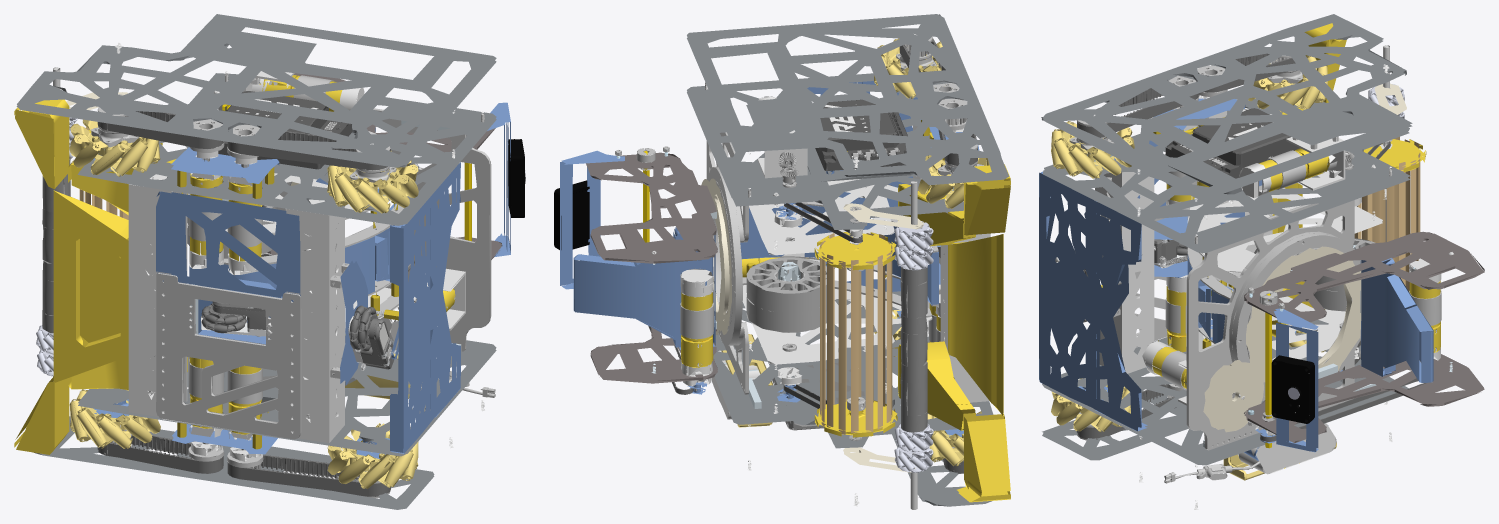
Rendered from DecodeBot.opt.glb.
The picture shows the model from 3 angles, left to right: view 1: azimuth 30°, elevation 25°; view 2: azimuth 150°, elevation 25°; view 3: azimuth 270°, elevation 25°; orthographic projection. The views are drawn at different scales.
Parts seen in each view (by area): view 1: Part 1 (×8), 1516-4008-0160, 1516-4008-0640-Mirrored, 140T 2M Belt, 3110-0001-0001-V1.1 wheel adap v2, REV-31-1153 (×2), Glass, Shaft, REV-31-1152; view 2: Part 1 (×9), 1516-4008-0160, 1516-4008-0640-Mirrored, 3613-0014-0096 Rubber, REV-31-1153 (×2), REV-31-1152, 140T 2M Belt, Glass, 1106-0008-0064, VITE_TESTA_BOMBATA_ESAGONO_INCASSATO; view 3: Part 1 (×8), 1516-4008-0160, 1516-4008-0640-Mirrored, 140T 2M Belt, REV-31-1153 (×2), Glass, 3613-0014-0096 Rubber, 3110-0001-0001-V1.1 wheel adap v2.
Part boxes in pixels (x1,y1,x2,y2): Part 1 (×8): (14, 14, 510, 509); 1516-4008-0160: (91, 72, 495, 498); 1516-4008-0640-Mirrored: (115, 42, 484, 461); 140T 2M Belt: (97, 109, 390, 496); 3110-0001-0001-V1.1 wheel adap v2: (203, 301, 394, 369); REV-31-1153 (×2): (199, 84, 471, 241); Glass: (507, 139, 525, 217); Shaft: (201, 303, 377, 351); REV-31-1152: (36, 117, 77, 376); Part 1 (×9): (560, 14, 1010, 506); 1516-4008-0160: (615, 36, 983, 471); 1516-4008-0640-Mirrored: (680, 34, 990, 506); 3613-0014-0096 Rubber: (640, 156, 862, 441); REV-31-1153 (×2): (815, 99, 907, 170); REV-31-1152: (894, 221, 933, 472); 140T 2M Belt: (648, 38, 977, 473); Glass: (554, 180, 589, 249); 1106-0008-0064: (651, 212, 800, 408); VITE_TESTA_BOMBATA_ESAGONO_INCASSATO: (651, 82, 917, 509); Part 1 (×8): (1039, 14, 1484, 480); 1516-4008-0160: (1069, 55, 1441, 483); 1516-4008-0640-Mirrored: (1094, 64, 1441, 509); 140T 2M Belt: (1076, 53, 1426, 441); REV-31-1153 (×2): (1165, 108, 1299, 468); Glass: (1271, 355, 1314, 423); 3613-0014-0096 Rubber: (1180, 97, 1375, 421); 3110-0001-0001-V1.1 wheel adap v2: (1075, 239, 1187, 322).
Size of the model in its own units: 0.6006 by 0.4257 by 0.5078.
